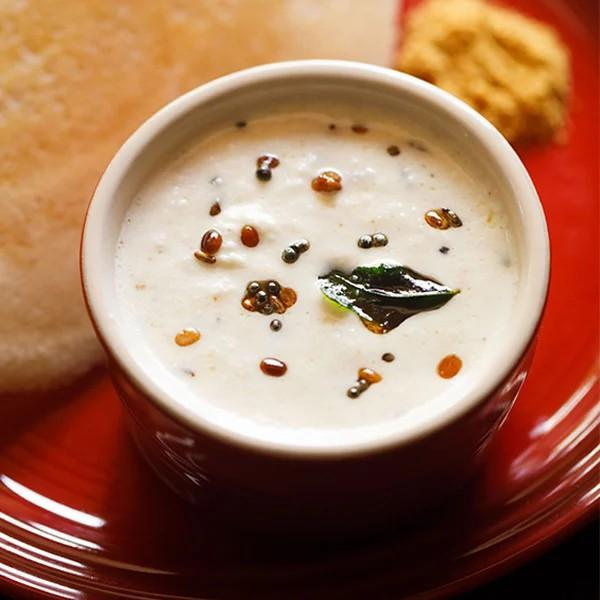CoconutChutney: (110, 113, 516, 437)
